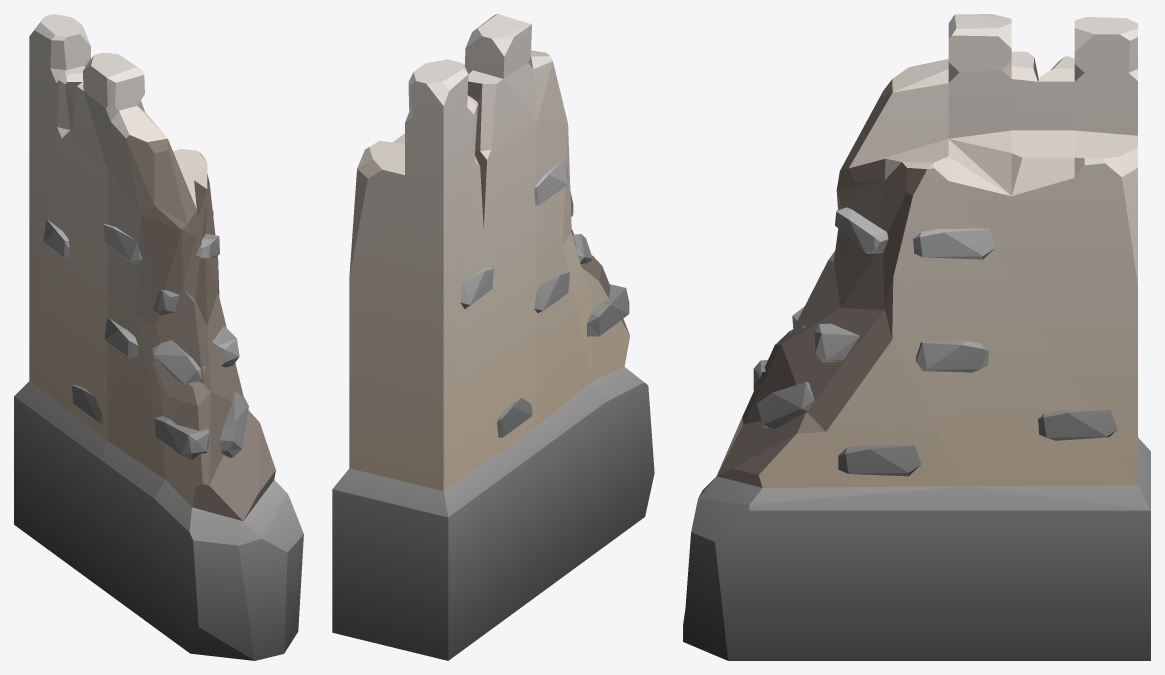
The model's file is DamagedFortWall3.fbx.
3 views of the same model, side by side, from view 1: azimuth 30°, elevation 25°; view 2: azimuth 150°, elevation 25°; view 3: azimuth 270°, elevation 25° (orthographic). The views are drawn at different scales.
Visible parts, largest first — view 1: DamagedFortWall5; view 2: DamagedFortWall5; view 3: DamagedFortWall5.
Part boxes in pixels (box(x1,y1,x2,y2)): DamagedFortWall5: box(14, 14, 303, 660); DamagedFortWall5: box(332, 14, 654, 660); DamagedFortWall5: box(683, 14, 1150, 660).
Bounding box in the file's own units: 1.65 × 7.75 × 5.52.
